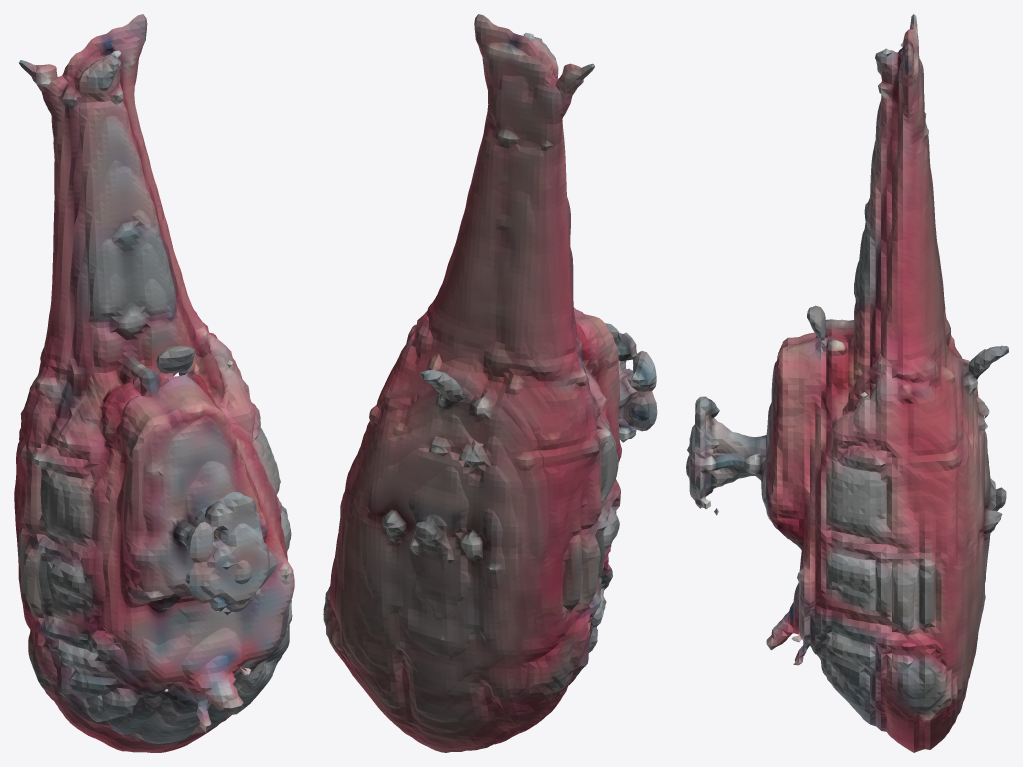
The model's file is helicopter.glb.
3 renders of one model, left to right at view 1: azimuth 30°, elevation 25°; view 2: azimuth 150°, elevation 25°; view 3: azimuth 270°, elevation 25°, orthographic. The views are drawn at different scales.
Parts seen in each view (by area): view 1: world; view 2: world; view 3: world.
Boxes of the visible parts, left/top/right/bottom form: world: left=14, top=14, right=294, bottom=752; world: left=323, top=14, right=657, bottom=752; world: left=686, top=14, right=1008, bottom=752.
Size of the model in its own units: 0.3514 by 0.9388 by 0.4025.
